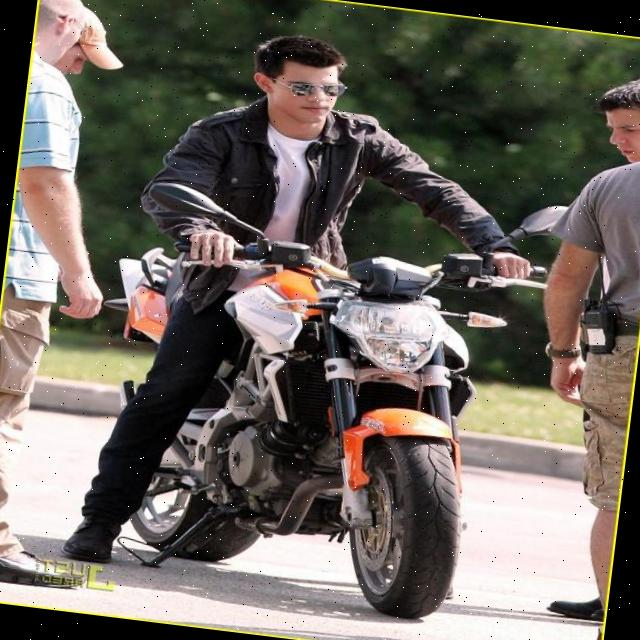No helmet: (248, 27, 352, 138)
